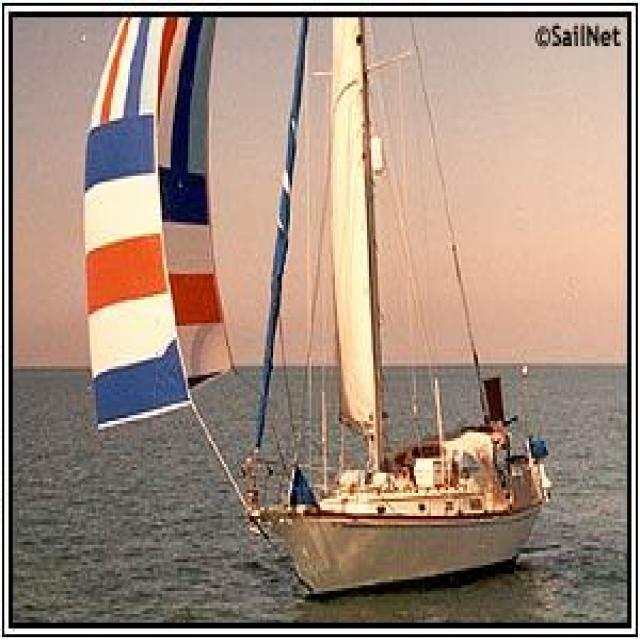Ship: (88, 15, 552, 597)
